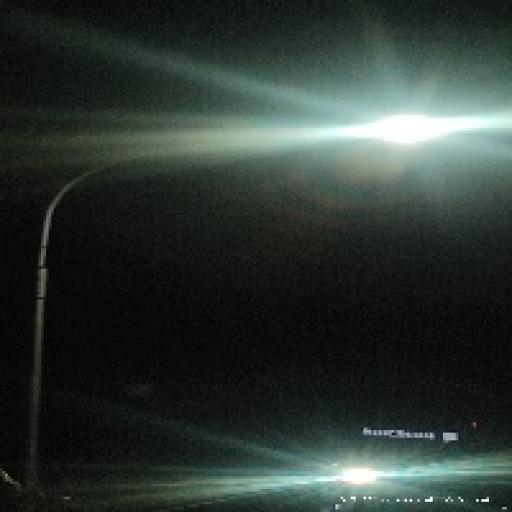Working: (341, 102, 482, 160), (332, 458, 383, 493)
